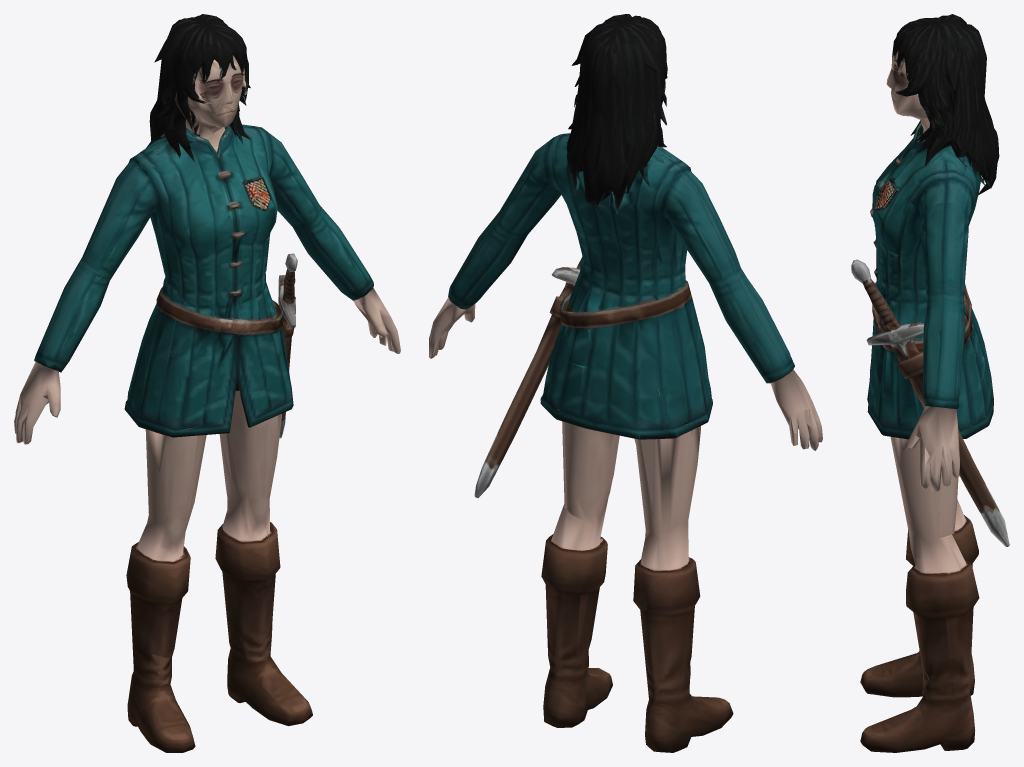
Rendered from MW_Adventurer.fbx.
3 renders of one model, left to right at view 1: azimuth 30°, elevation 25°; view 2: azimuth 150°, elevation 25°; view 3: azimuth 270°, elevation 25°, orthographic. The views are drawn at different scales.
Parts seen in each view (by area): view 1: Mesh_0; view 2: Mesh_0; view 3: Mesh_0.
Part boxes in pixels (x1,y1,x2,y2): Mesh_0: [14, 14, 400, 752]; Mesh_0: [429, 14, 822, 752]; Mesh_0: [851, 14, 1009, 752].
Bounding box in the file's own units: 109 × 190 × 39.11.
1 material, 1 textured.
